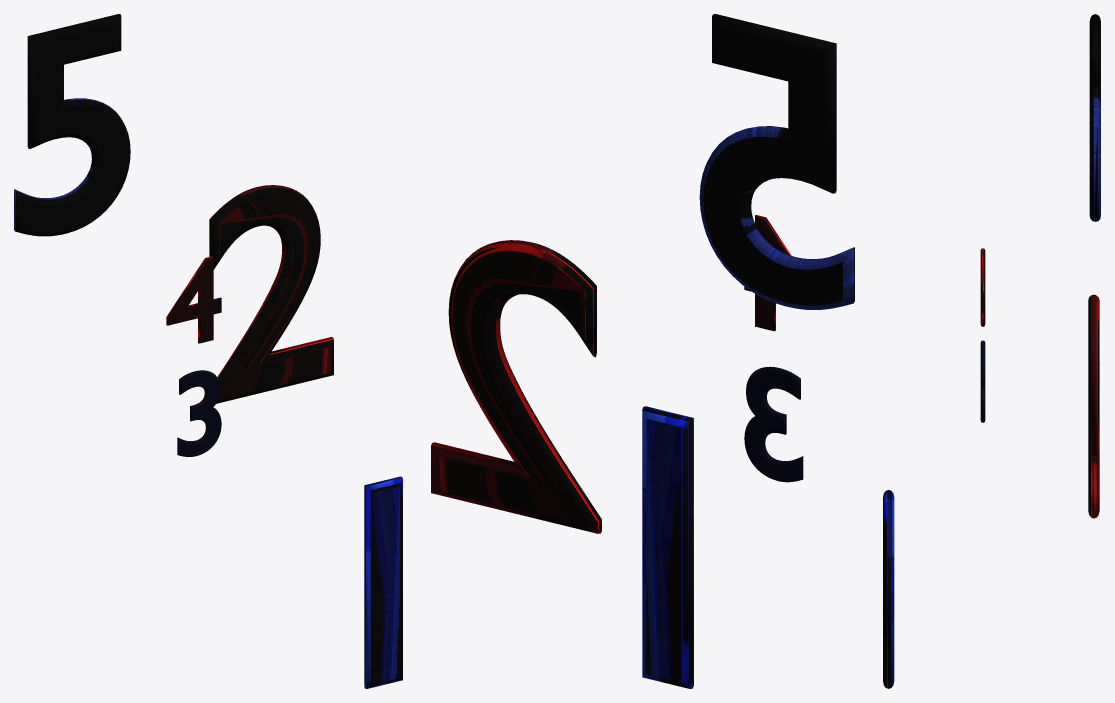
The model's file is WawaOffice.glb.
3 renders of one model, left to right at view 1: azimuth 30°, elevation 25°; view 2: azimuth 150°, elevation 25°; view 3: azimuth 270°, elevation 25°, orthographic. The views are drawn at different scales.
Visible parts, largest first — view 1: 03_block, 02_block, 01_block, 02_block.003, 02_block.002; view 2: 03_block, 02_block, 01_block, 02_block.002, 02_block.003; view 3: 02_block, 03_block, 01_block, 02_block.002, 02_block.003.
Boxes of the visible parts, <box> form: 03_block: <box>14,14,130,236</box>; 02_block: <box>209,185,333,403</box>; 01_block: <box>364,476,402,688</box>; 02_block.003: <box>166,256,221,343</box>; 02_block.002: <box>177,370,221,456</box>; 03_block: <box>699,14,854,309</box>; 02_block: <box>431,240,601,533</box>; 01_block: <box>642,406,693,688</box>; 02_block.002: <box>744,366,803,482</box>; 02_block.003: <box>744,215,791,331</box>; 02_block: <box>1088,294,1099,518</box>; 03_block: <box>1089,14,1100,221</box>; 01_block: <box>883,490,894,688</box>; 02_block.002: <box>980,340,985,422</box>; 02_block.003: <box>980,248,985,326</box>.
Size of the model in its own units: 3.46 by 6.47 by 2.28.
5 materials, 5 textured.
